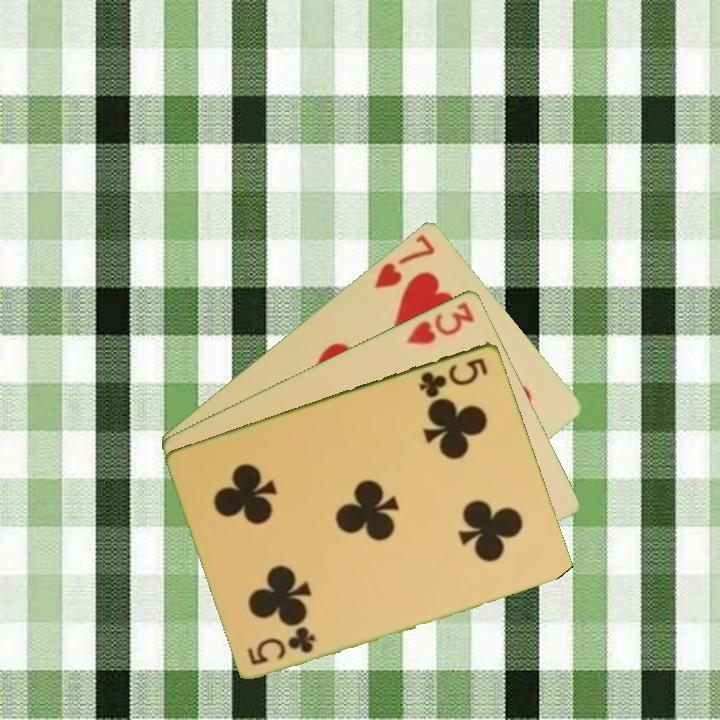3h: (403, 298, 478, 347)
5c: (415, 354, 491, 400), (244, 624, 319, 668)
7h: (370, 230, 438, 291)
